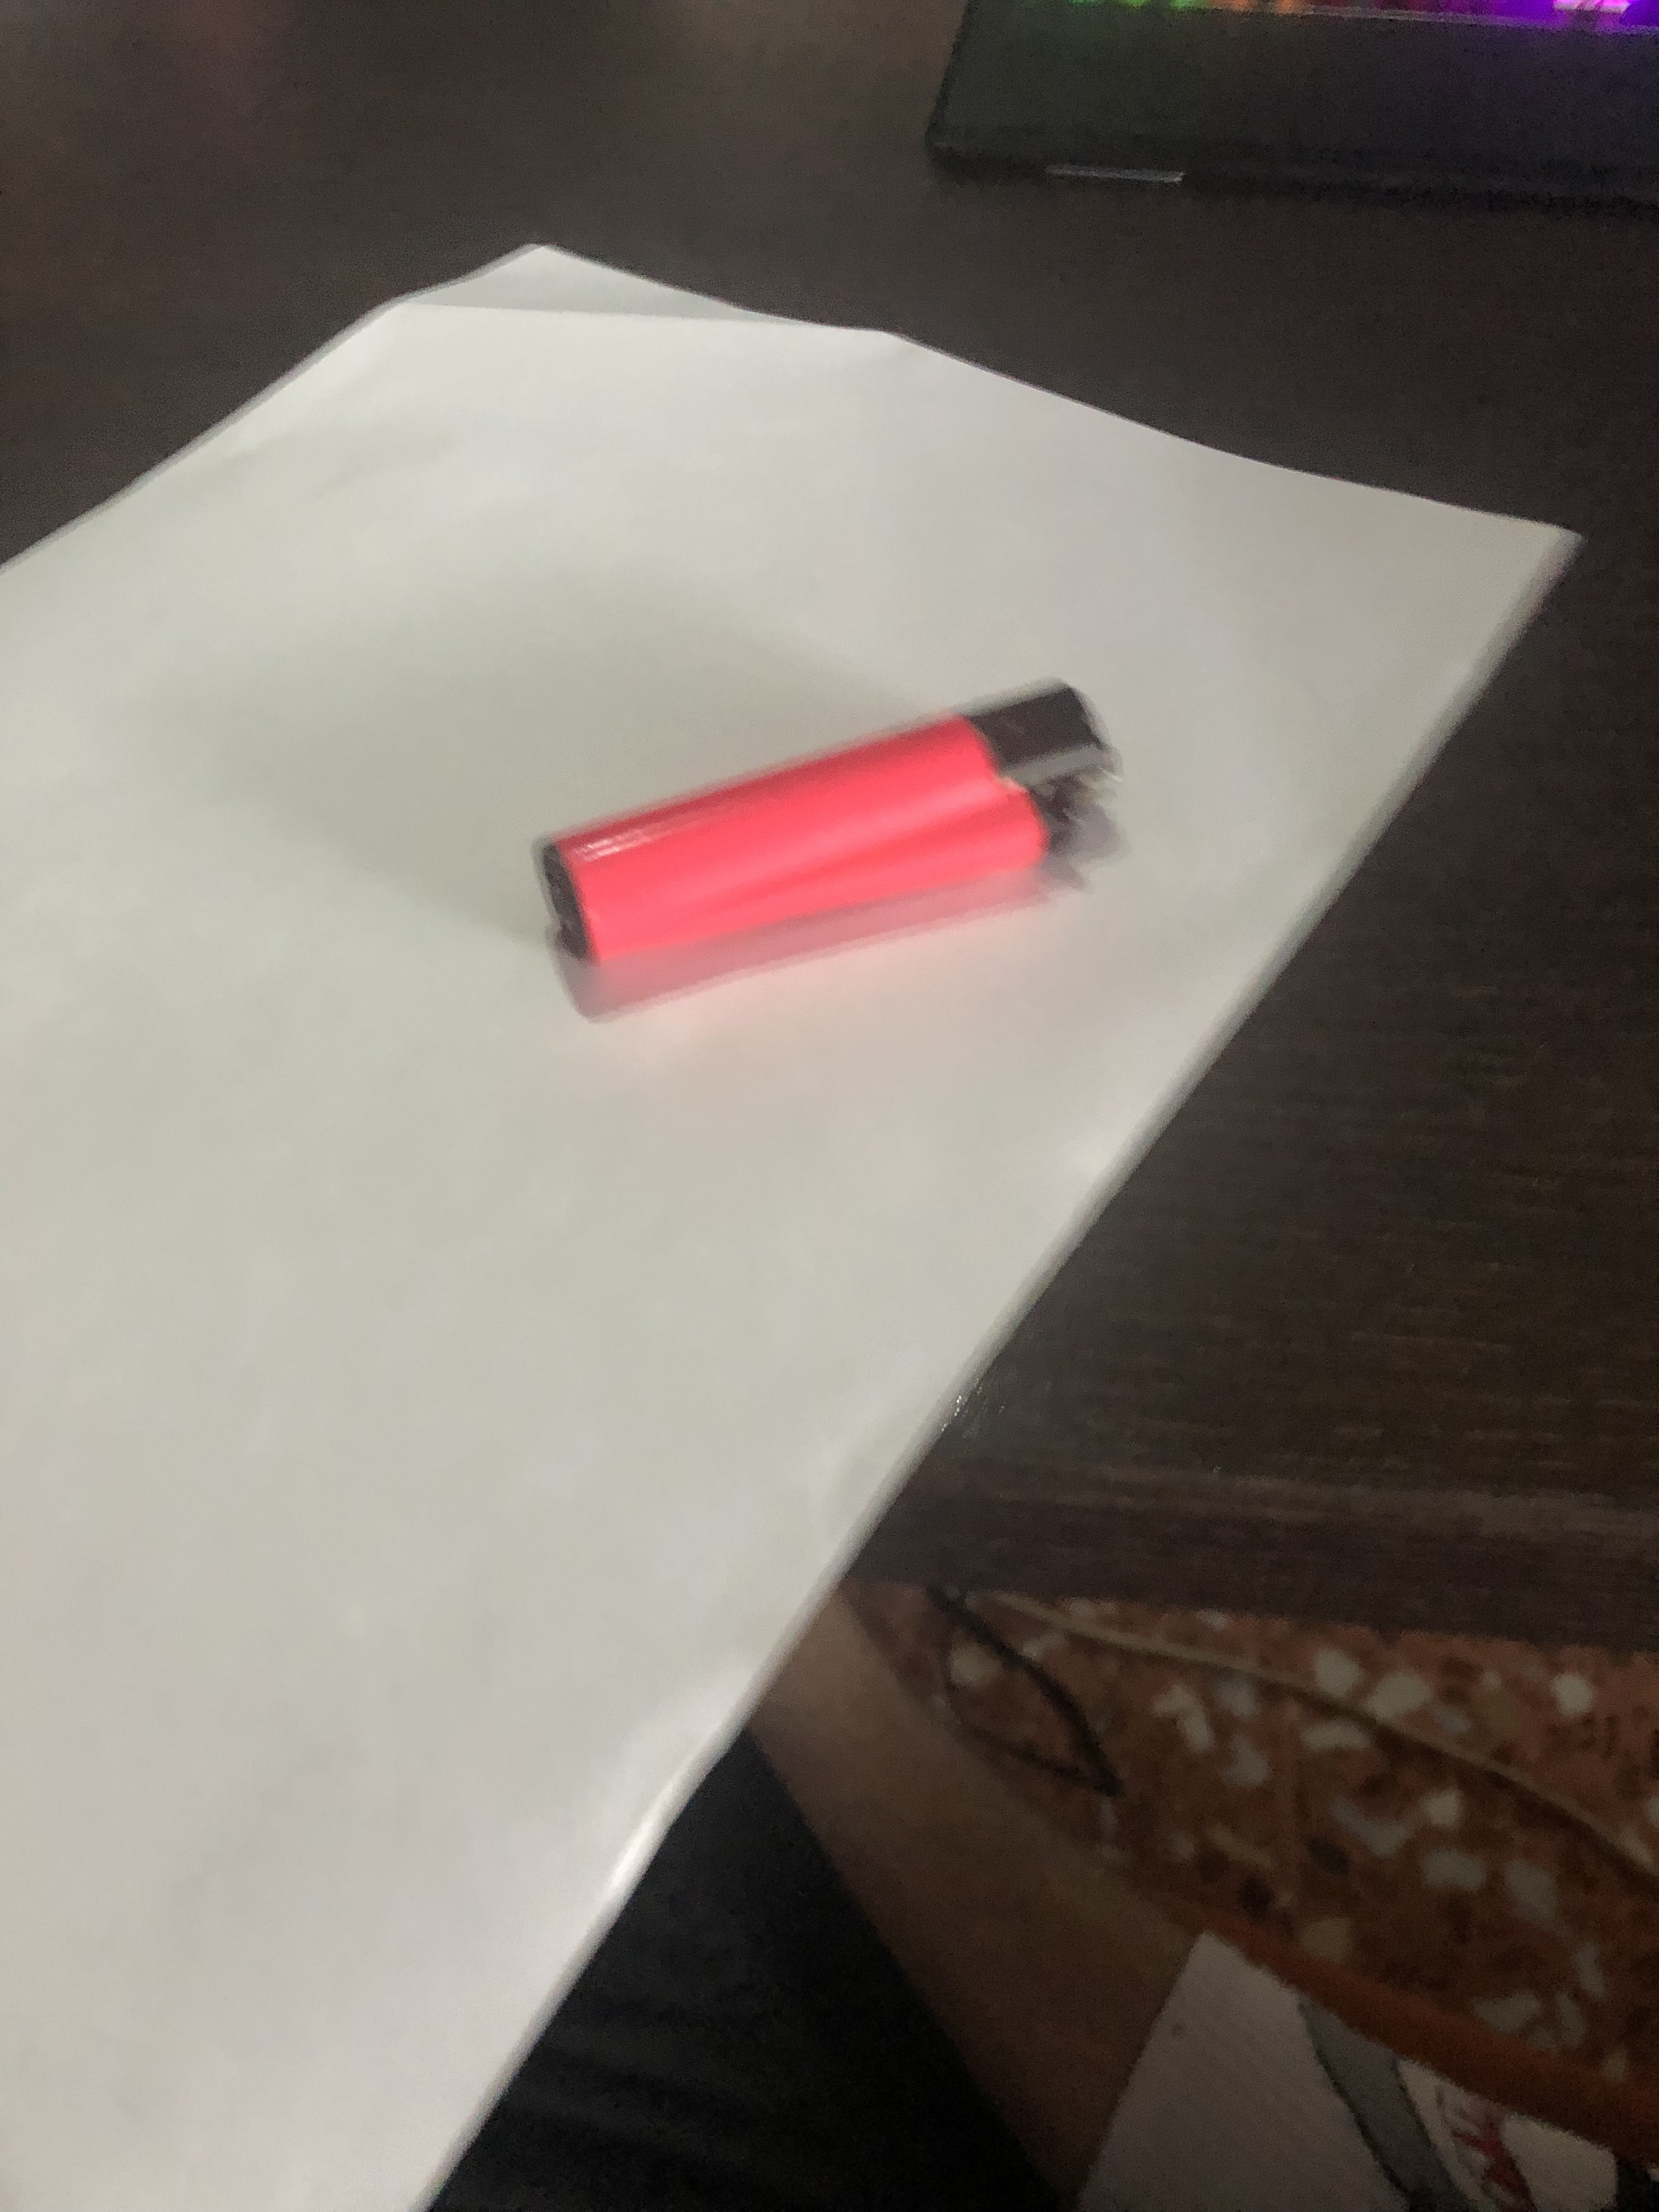Mechero: (538, 662, 1129, 988)
